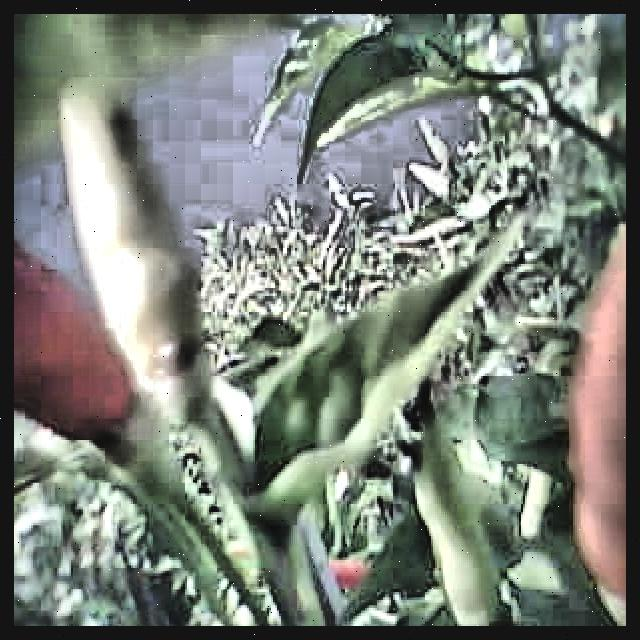Cabai: (14, 235, 89, 424)
